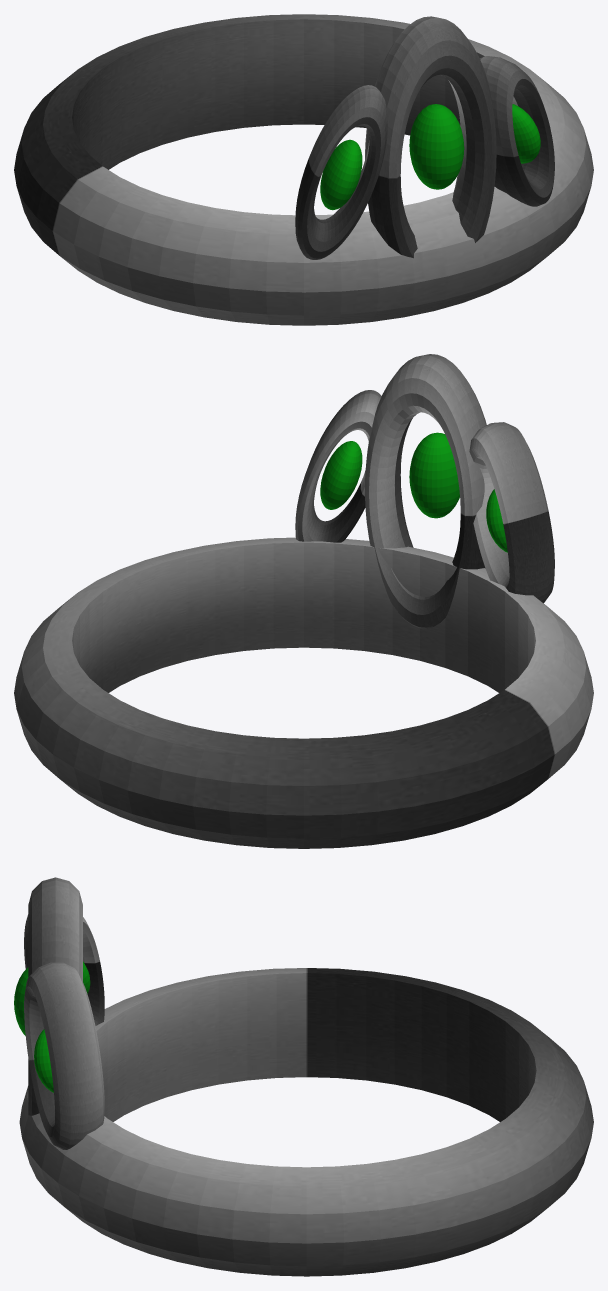
Rendered from TiaraWithGems.glb.
The picture shows the model from 3 angles, top to bottom: view 1: azimuth 30°, elevation 25°; view 2: azimuth 150°, elevation 25°; view 3: azimuth 270°, elevation 25°; orthographic projection.
Visible parts, largest first — view 1: Torus, Torus.001, Torus.002, Torus.003, Sphere, Sphere.001, Sphere.002; view 2: Torus, Torus.001, Torus.002, Torus.003, Sphere, Sphere.002, Sphere.001; view 3: Torus, Torus.003, Torus.001, Torus.002, Sphere.002, Sphere.
Part boxes in pixels (x1,y1,x2,y2): Torus: (14, 14, 593, 325); Torus.001: (365, 16, 496, 258); Torus.002: (295, 85, 387, 259); Torus.003: (480, 56, 554, 206); Sphere: (409, 104, 464, 189); Sphere.001: (320, 139, 362, 210); Sphere.002: (512, 104, 540, 163); Torus: (14, 537, 593, 848); Torus.001: (365, 354, 486, 628); Torus.002: (469, 422, 554, 603); Torus.003: (295, 390, 381, 542); Sphere: (409, 432, 459, 518); Sphere.002: (320, 441, 362, 509); Sphere.001: (486, 489, 507, 552); Torus: (19, 968, 593, 1276); Torus.003: (24, 962, 104, 1149); Torus.001: (28, 877, 82, 1115); Torus.002: (24, 914, 104, 1025); Sphere.002: (34, 1029, 53, 1092); Sphere: (14, 967, 28, 1035).
Bounding box in the file's own units: 5.24 × 2.96 × 5.29.
7 materials, 4 textured.
